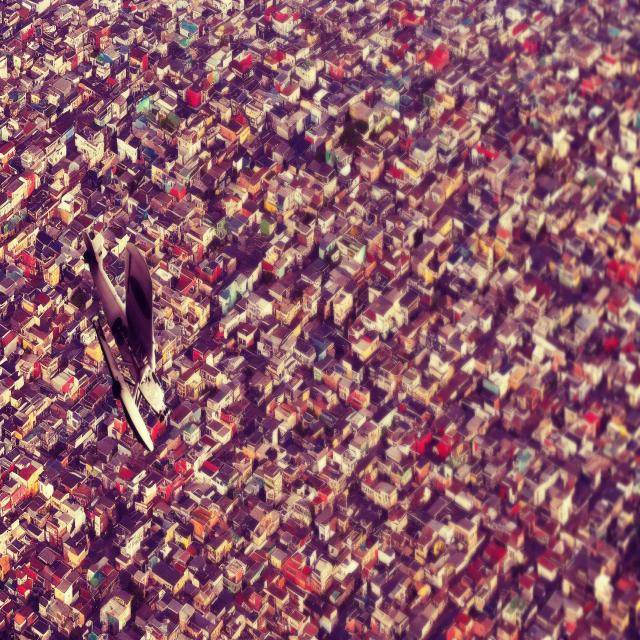airplane: (80, 226, 170, 452)
